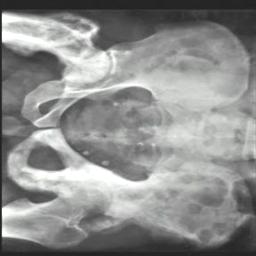cancer: (12, 132, 133, 234), (122, 174, 251, 250), (3, 17, 109, 81)
